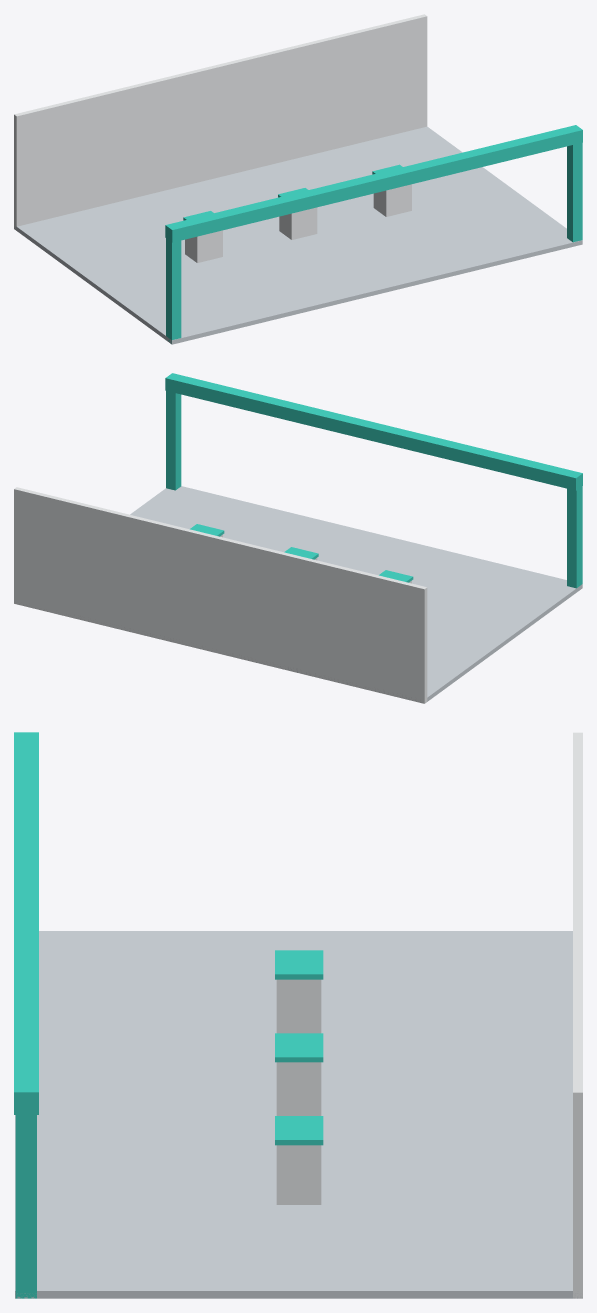
3 renders of one model, top to bottom at view 1: azimuth 30°, elevation 25°; view 2: azimuth 150°, elevation 25°; view 3: azimuth 270°, elevation 25°, orthographic. The views are drawn at different scales.
Parts seen in each view (by area): view 1: Exhibition Booth Concept; view 2: Exhibition Booth Concept; view 3: Exhibition Booth Concept.
Boxes of the visible parts, x1,y1,x2,y2 form: Exhibition Booth Concept: (14, 14, 582, 344); Exhibition Booth Concept: (14, 373, 582, 703); Exhibition Booth Concept: (14, 732, 582, 1298).
Bounding box in the file's own units: 12 × 3.2 × 8.01.
